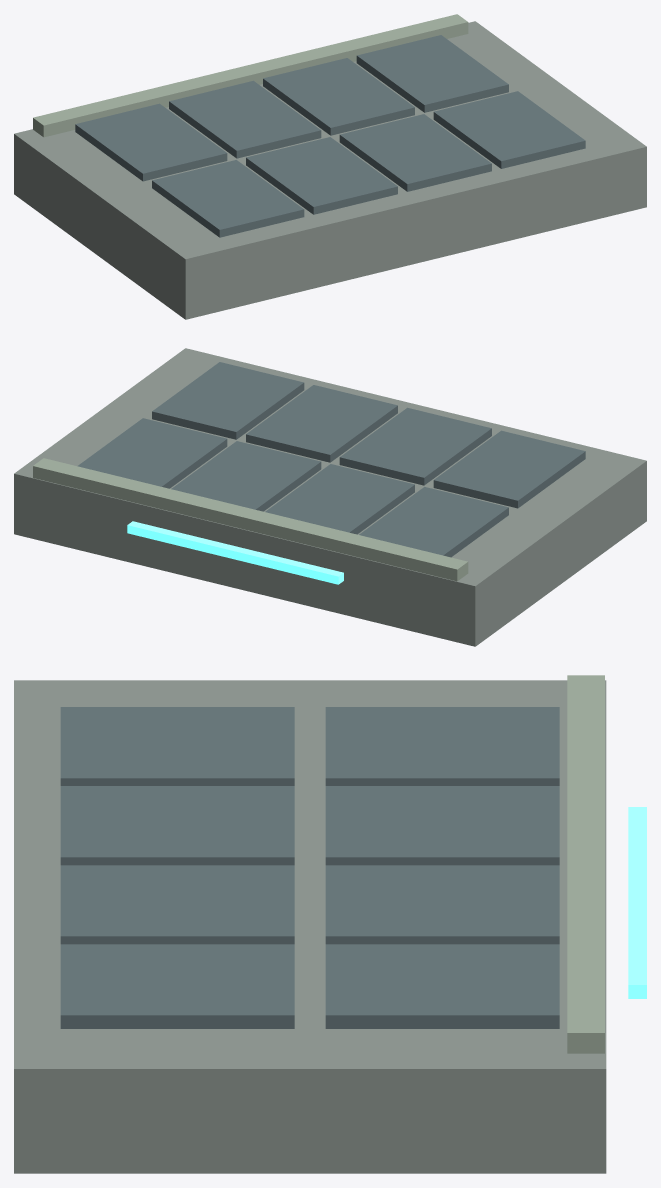
File: s7-e0e1-rs05-empty-seedling-tray.glb
3 renders of one model, top to bottom at view 1: azimuth 30°, elevation 25°; view 2: azimuth 150°, elevation 25°; view 3: azimuth 270°, elevation 25°, orthographic. The views are drawn at different scales.
Parts seen in each view (by area): view 1: seedling-tray-shell-000, front-edge-001, tray-compartment-004, tray-compartment-002, tray-compartment-003, tray-compartment-008, tray-compartment-009, tray-compartment-007, tray-compartment-006, tray-compartment-005; view 2: seedling-tray-shell-000, front-edge-001, tray-compartment-003, tray-compartment-009, tray-compartment-005, tray-compartment-007, tray-compartment-006, tray-compartment-008, tray-compartment-002, tray-compartment-004, tray-status-indicator-010; view 3: seedling-tray-shell-000, tray-compartment-008, tray-compartment-009, tray-compartment-004, tray-compartment-005, tray-compartment-006, tray-compartment-007, tray-compartment-002, tray-compartment-003, front-edge-001, tray-status-indicator-010.
Part boxes in pixels (x1,y1,x2,y2): seedling-tray-shell-000: (14, 21, 646, 319); front-edge-001: (33, 14, 468, 137); tray-compartment-004: (169, 80, 321, 158); tray-compartment-002: (75, 103, 227, 181); tray-compartment-003: (152, 160, 304, 237); tray-compartment-008: (356, 35, 508, 112); tray-compartment-009: (433, 91, 585, 168); tray-compartment-007: (339, 114, 491, 191); tray-compartment-006: (263, 58, 414, 135); tray-compartment-005: (246, 137, 397, 214); seedling-tray-shell-000: (14, 348, 646, 646); front-edge-001: (33, 458, 468, 581); tray-compartment-003: (433, 430, 585, 508); tray-compartment-009: (152, 362, 304, 439); tray-compartment-005: (339, 407, 491, 485); tray-compartment-007: (246, 385, 397, 462); tray-compartment-006: (171, 441, 321, 511); tray-compartment-008: (77, 418, 227, 488); tray-compartment-002: (359, 487, 508, 557); tray-compartment-004: (265, 464, 414, 534); tray-status-indicator-010: (127, 521, 343, 584); seedling-tray-shell-000: (14, 680, 606, 1173); tray-compartment-008: (325, 944, 559, 1028); tray-compartment-009: (60, 944, 294, 1028); tray-compartment-004: (325, 786, 559, 865); tray-compartment-005: (60, 786, 294, 865); tray-compartment-006: (325, 865, 559, 944); tray-compartment-007: (60, 865, 294, 944); tray-compartment-002: (325, 707, 559, 785); tray-compartment-003: (60, 707, 294, 785); front-edge-001: (567, 675, 604, 1053); tray-status-indicator-010: (628, 807, 646, 998).
Size of the model in its own units: 0.59 by 0.0885 by 0.406.
